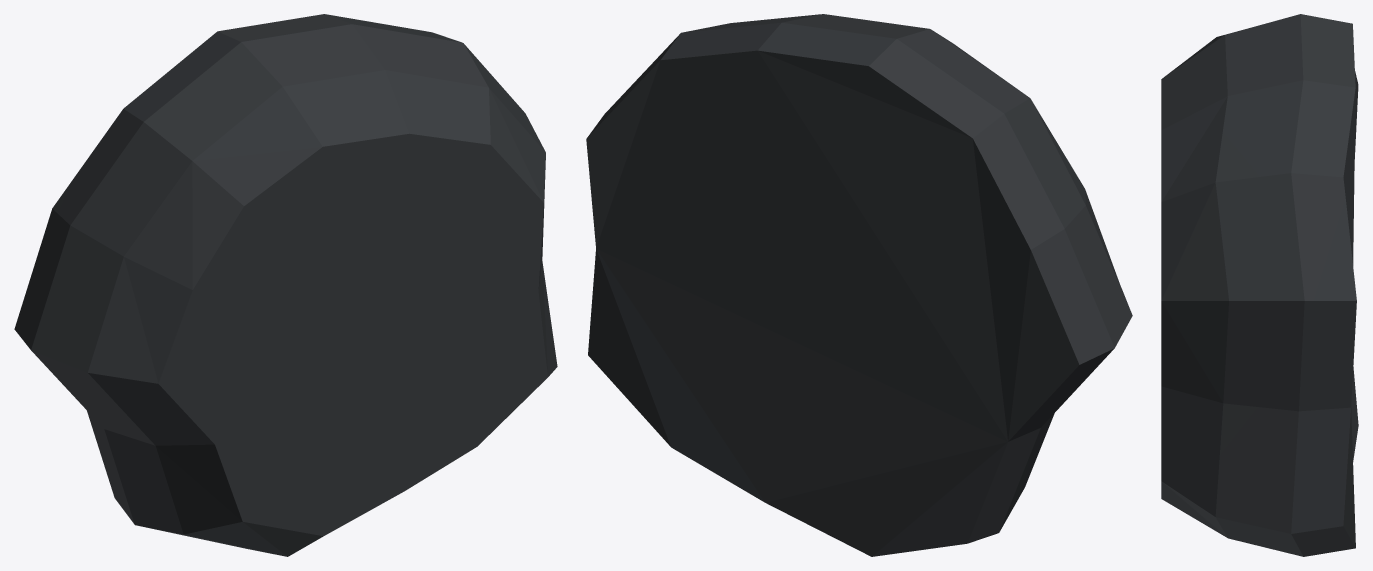
File: FERNSTONE_ROCK.shadow.glb
3 renders of one model, left to right at view 1: azimuth 30°, elevation 25°; view 2: azimuth 150°, elevation 25°; view 3: azimuth 270°, elevation 25°, orthographic.
Parts seen in each view (by area): view 1: Body_Mesh; view 2: Body_Mesh; view 3: Body_Mesh.
Part boxes in pixels (x1=…): Body_Mesh: x1=14, y1=14, x2=557, y2=556; Body_Mesh: x1=586, y1=14, x2=1132, y2=556; Body_Mesh: x1=1161, y1=14, x2=1358, y2=556.
Size of the model in its own units: 0.3054 by 0.2919 by 0.1018.
Materials: 1 (1 with a texture image).
